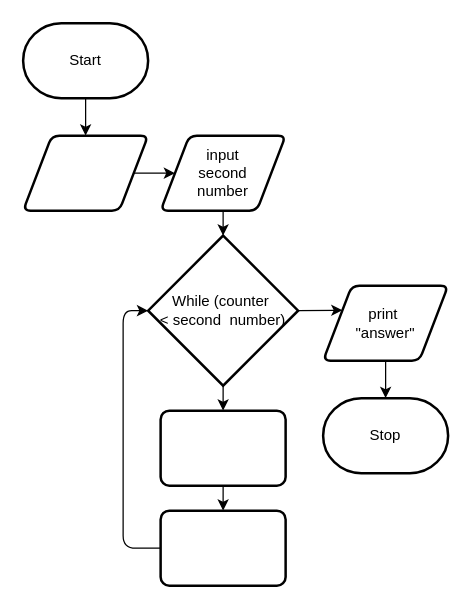
This 470x608 diagram has some shape labels left out. Here are the shapes that lost their labels. From the top down, the centre of each, then its label:
At pixel 85 172: "Input first number".
At pixel 222 447: "answer =+ first number".
At pixel 222 547: "counter =counter+1".
